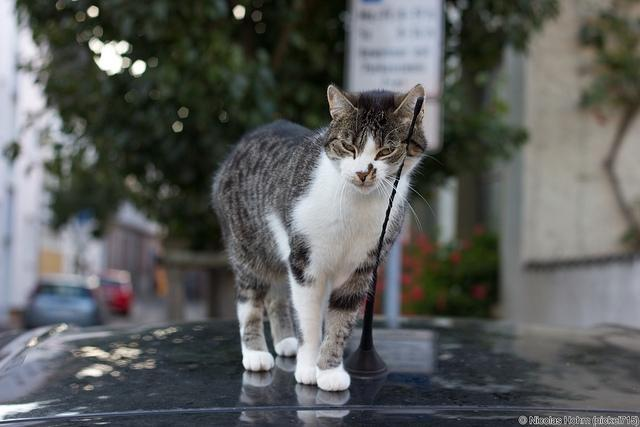car: (1, 310, 640, 422), (27, 276, 108, 328), (90, 266, 132, 314)
